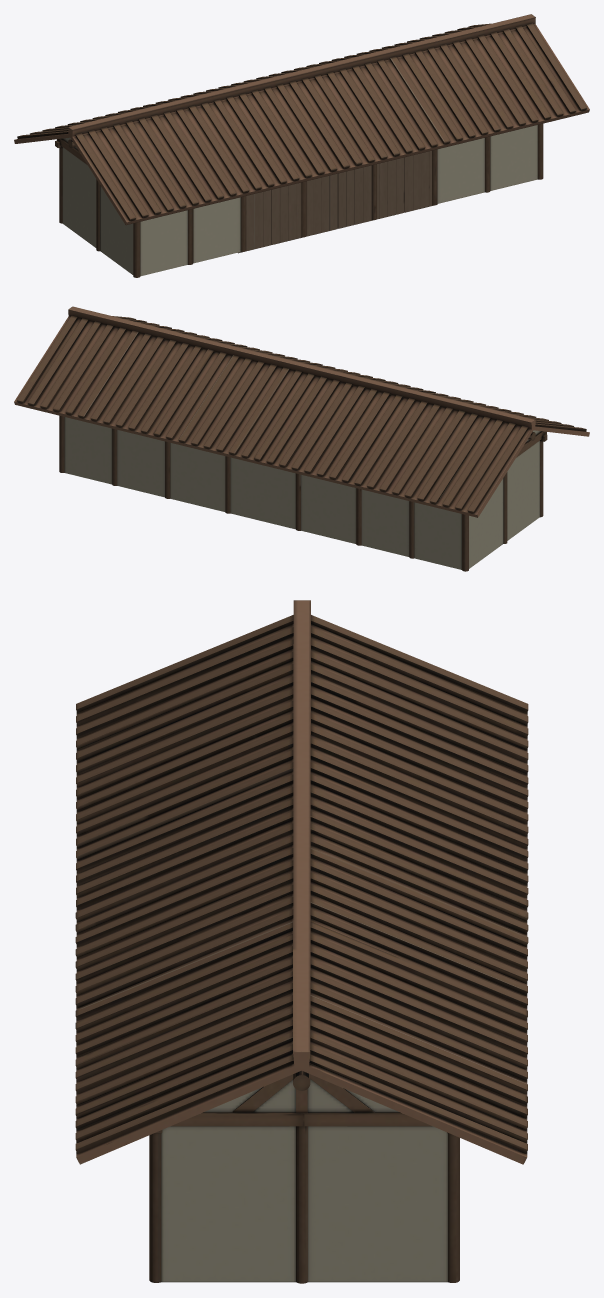
The model's file is soeya.glb.
The picture shows the model from 3 angles, top to bottom: view 1: azimuth 30°, elevation 25°; view 2: azimuth 150°, elevation 25°; view 3: azimuth 270°, elevation 25°; orthographic projection. The views are drawn at different scales.
Parts seen in each view (by area): view 1: soeya; view 2: soeya; view 3: soeya.
Part boxes in pixels (bbox=[...]): soeya: bbox=[14, 14, 589, 277]; soeya: bbox=[14, 306, 589, 571]; soeya: bbox=[75, 600, 528, 1283].
Bounding box in the file's own units: 18.4 × 4.92 × 7.79.
1 material, 1 textured.
